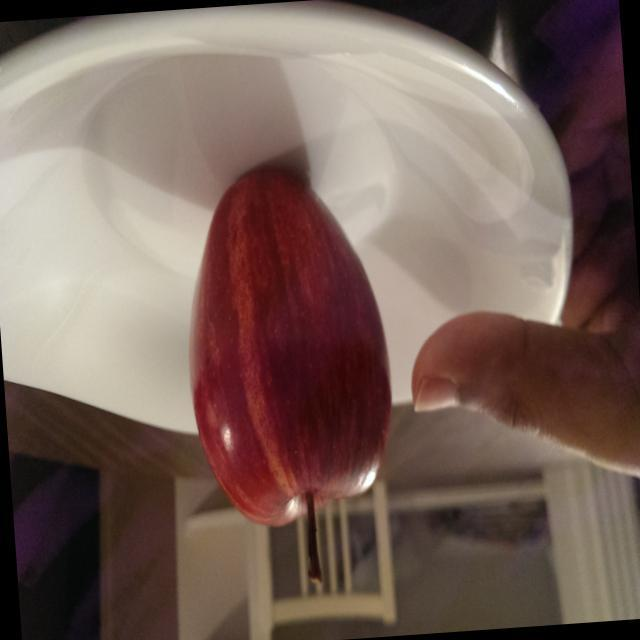Apple: (168, 155, 409, 598)
Finger: (402, 303, 546, 457)
